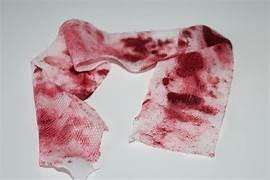cotton: (32, 20, 232, 167)
